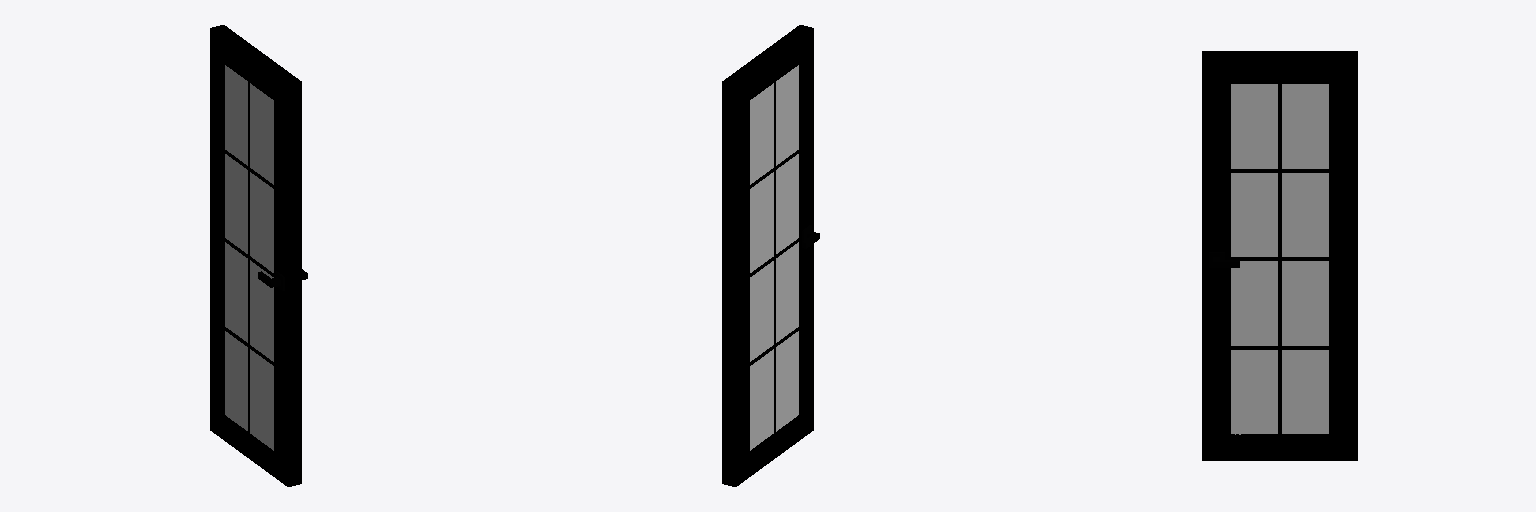
File: door702_black.obj
The picture shows the model from 3 angles: view 1: azimuth 30°, elevation 25°; view 2: azimuth 150°, elevation 25°; view 3: azimuth 270°, elevation 25°; orthographic projection.
Visible parts, largest first — view 1: Cube; view 2: Cube; view 3: Cube.
Part boxes in pixels (left/top/right/bottom): Cube: left=210, top=25, right=307, bottom=486; Cube: left=722, top=25, right=819, bottom=486; Cube: left=1202, top=51, right=1357, bottom=460.
Size of the model in its own units: 0.1899 by 2 by 0.6998.